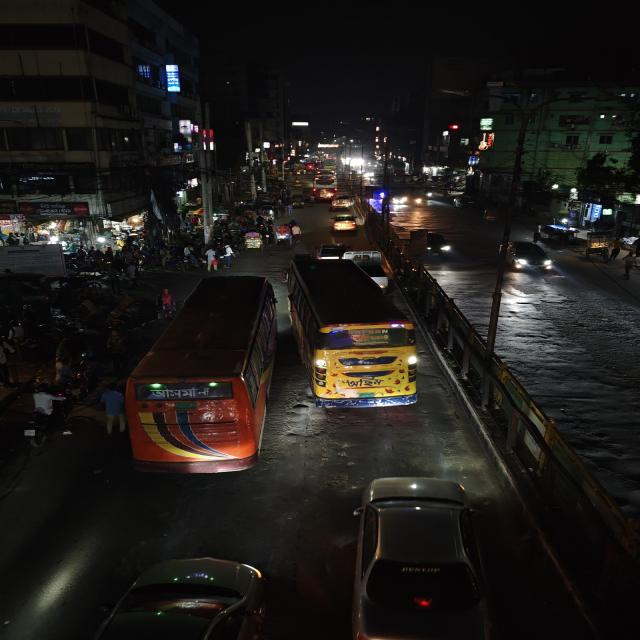bus: (127, 276, 275, 486), (286, 257, 421, 417), (311, 175, 337, 200)
car: (343, 472, 496, 640), (77, 552, 281, 640), (498, 238, 556, 276), (420, 228, 455, 260), (315, 242, 351, 262), (329, 211, 359, 233)
motorcycle: (19, 404, 60, 449)
pedestrian: (97, 382, 124, 434), (104, 329, 130, 371), (618, 250, 640, 282)
pickup_van: (330, 193, 356, 211)
rickshaw: (242, 230, 266, 252), (272, 223, 293, 243)
